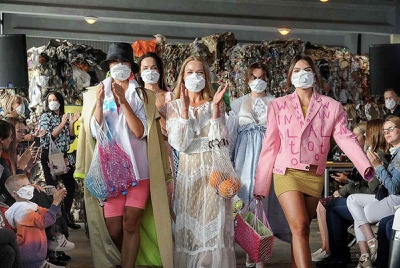with_mask: (184, 68, 207, 93), (291, 65, 314, 90), (109, 59, 132, 82), (140, 64, 161, 85), (248, 73, 267, 95), (17, 182, 35, 202), (383, 96, 397, 110), (48, 98, 61, 113), (17, 101, 25, 116)
without_mask: (383, 125, 398, 145), (5, 133, 14, 152), (17, 127, 27, 144)
